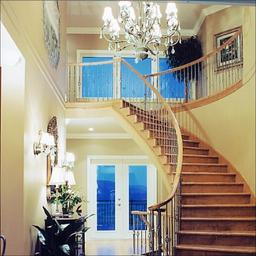Puerta: (90, 161, 155, 251)
